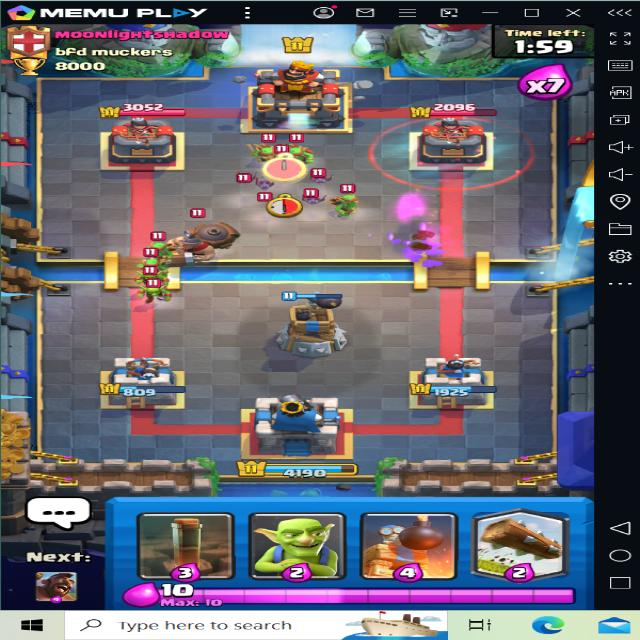Bat: (249, 173, 280, 194), (296, 189, 326, 208), (305, 168, 332, 184)
Clone: (369, 111, 531, 196)
Goblin: (136, 277, 176, 305)
Mightyminer: (158, 202, 244, 274)
Speargoblin: (331, 186, 369, 218), (139, 232, 176, 263), (285, 135, 317, 165), (138, 252, 170, 279), (247, 139, 278, 163)
